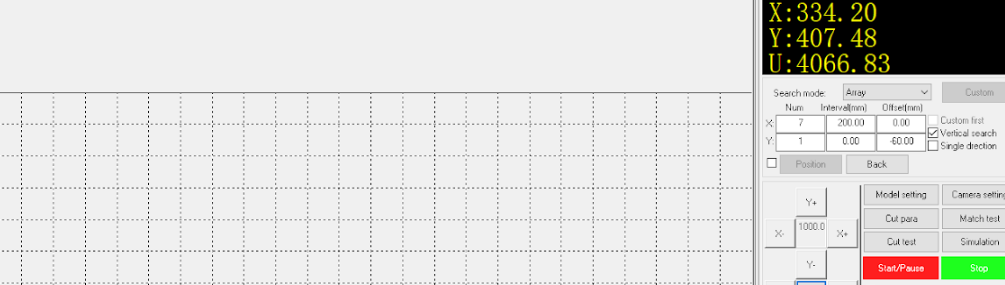start: (864, 254, 940, 279)
timer: (876, 101, 926, 151)
